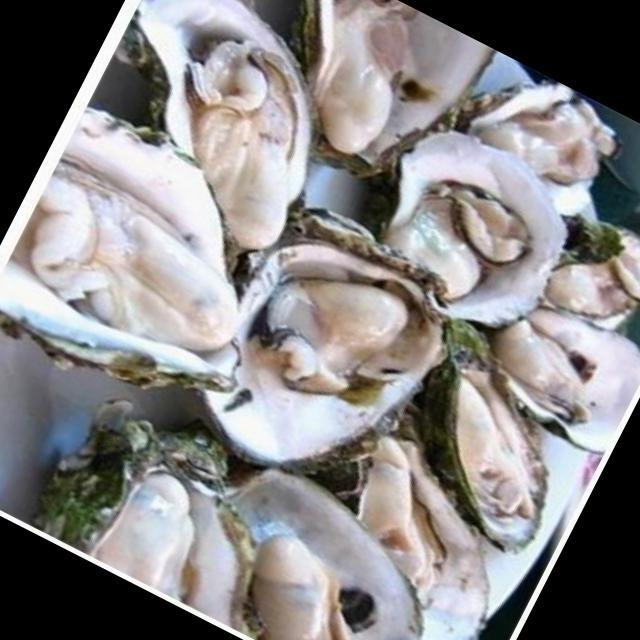Oyster-Open: (0, 89, 324, 441), (162, 178, 488, 522), (41, 0, 377, 277), (22, 376, 314, 636), (162, 444, 482, 640), (343, 110, 598, 353), (222, 0, 504, 218), (366, 314, 610, 563), (294, 418, 553, 640), (430, 44, 640, 228), (471, 284, 640, 460), (527, 204, 640, 345)
